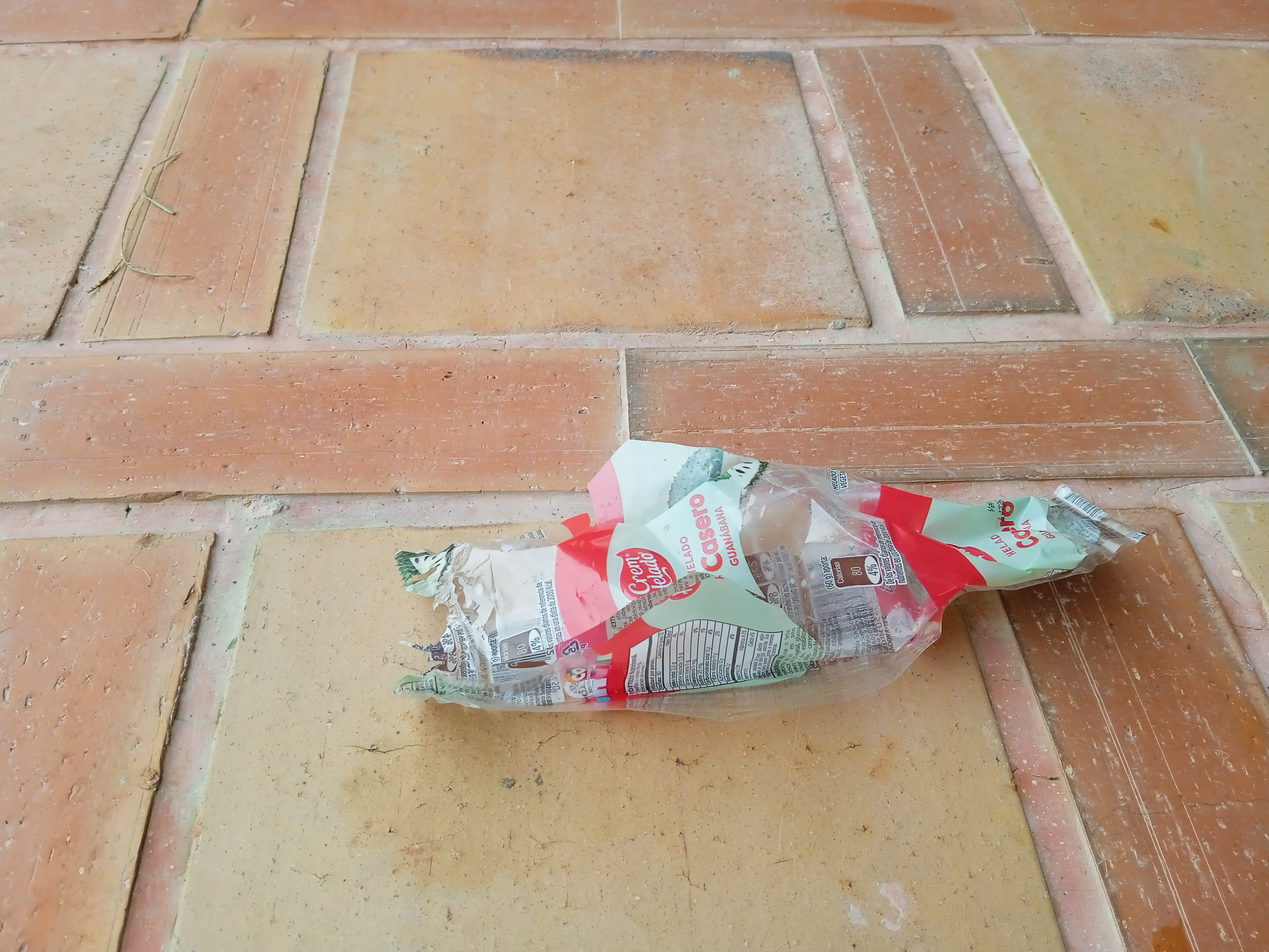plastic: (352, 422, 1158, 731)
